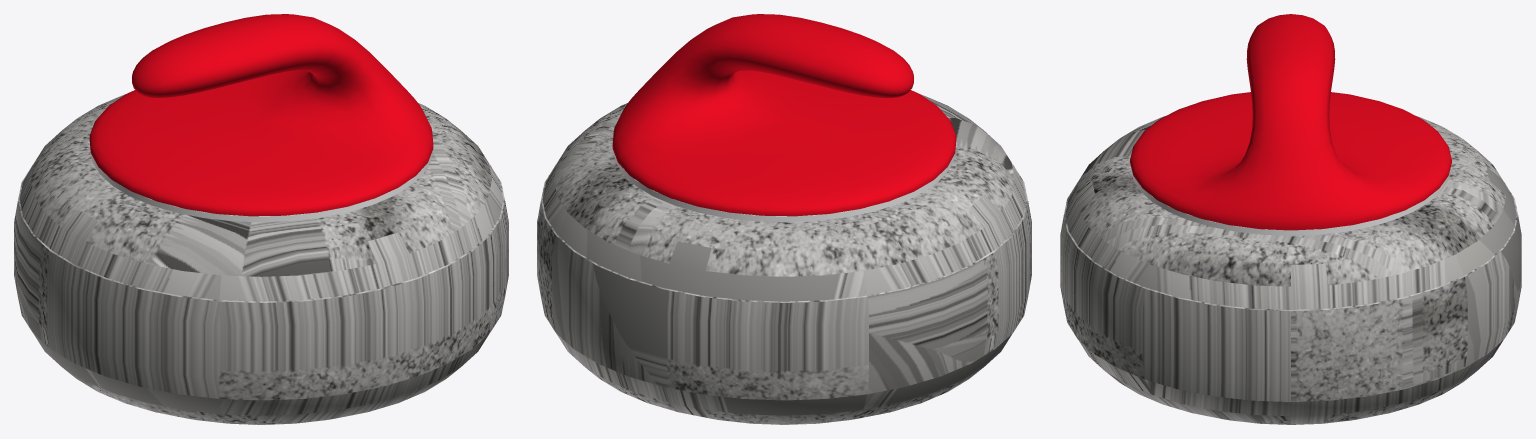
File: culring ball Redv3.fbx
3 views of the same model, side by side, from view 1: azimuth 30°, elevation 25°; view 2: azimuth 150°, elevation 25°; view 3: azimuth 270°, elevation 25° (orthographic). The views are drawn at different scales.
Parts seen in each view (by area): view 1: defaultMaterial.002, grippoint.001, defaultMaterial.003; view 2: defaultMaterial.002, grippoint.001, defaultMaterial.003; view 3: defaultMaterial.002, grippoint.001, defaultMaterial.003.
Part boxes in pixels (x1,y1,x2,y2): defaultMaterial.002: (14,94,508,424); grippoint.001: (89,14,433,216); defaultMaterial.003: (90,146,432,222); defaultMaterial.002: (537,94,1031,424); grippoint.001: (612,14,956,216); defaultMaterial.003: (613,146,955,222); defaultMaterial.002: (1060,116,1521,424); grippoint.001: (1130,14,1451,230); defaultMaterial.003: (1131,167,1450,235).
Bounding box in the file's own units: 200 × 145 × 200.
3 materials, 1 textured.
